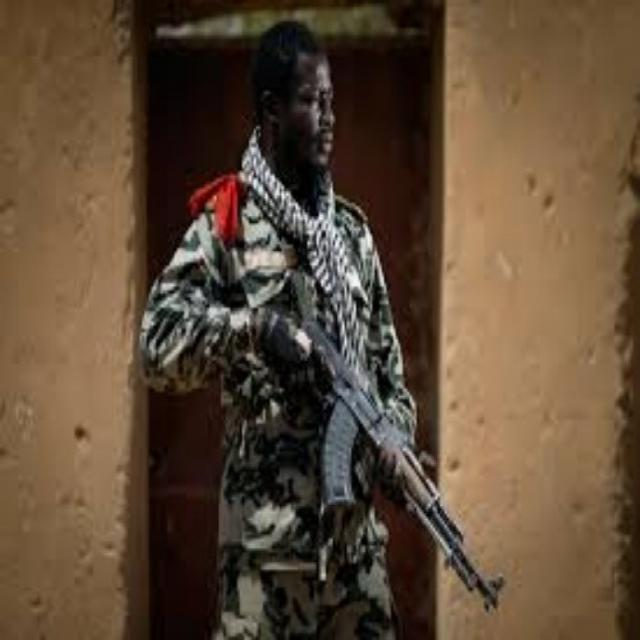ak: (280, 280, 512, 624)
